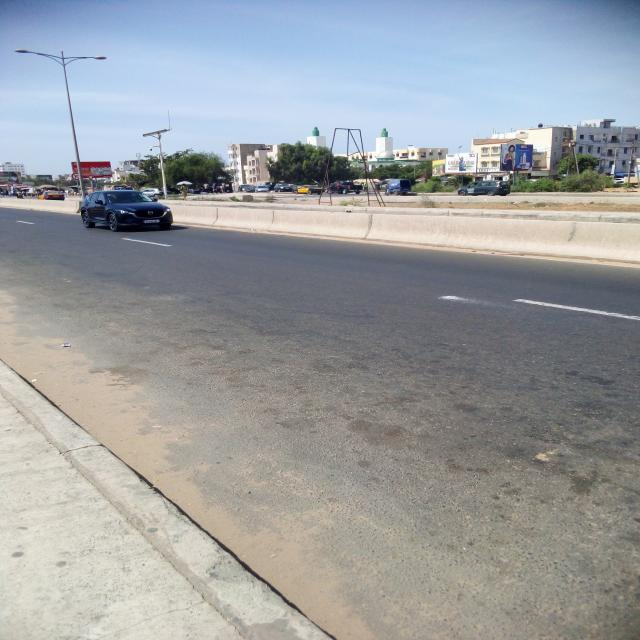moto tricycle: (386, 180, 413, 196)
particulier: (81, 191, 173, 232), (458, 182, 511, 197), (329, 182, 364, 195), (274, 185, 296, 194), (239, 185, 256, 194), (256, 186, 271, 194)
taxi: (294, 186, 324, 196), (39, 191, 66, 202)
